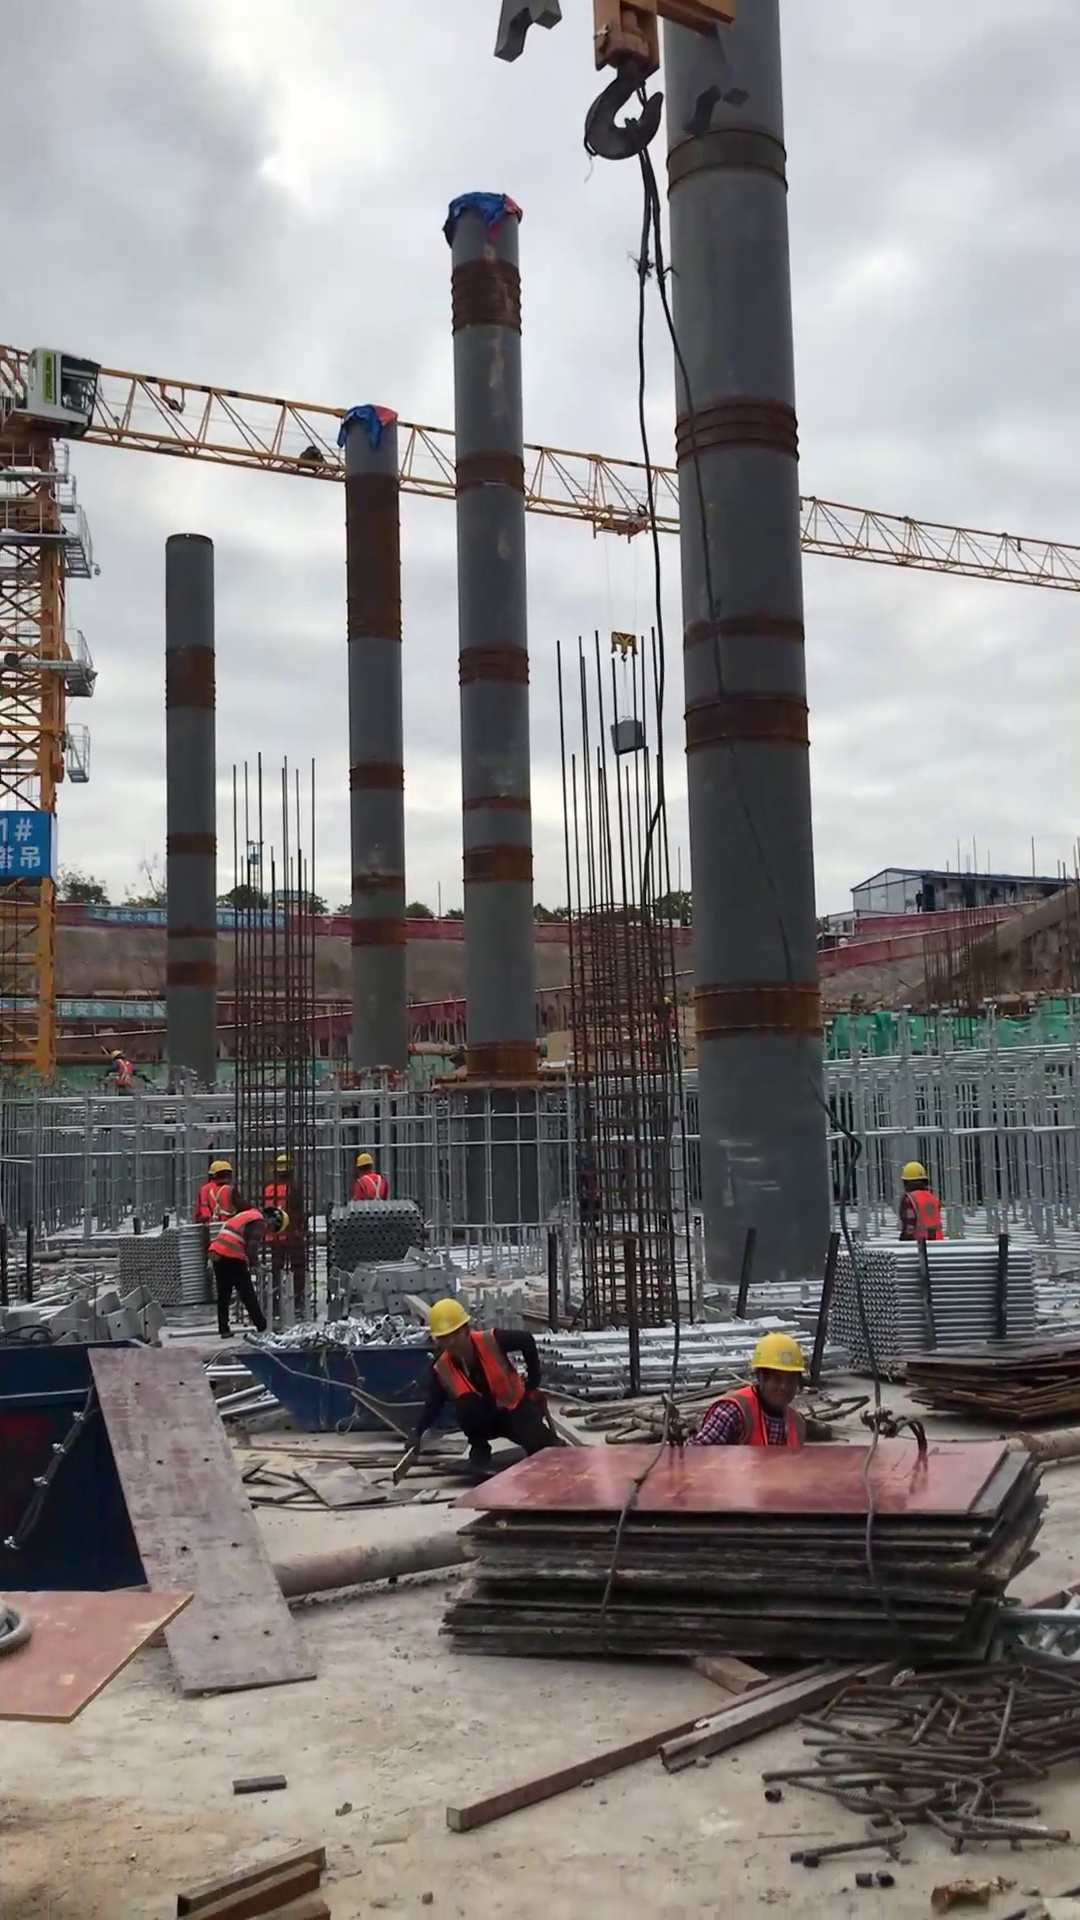helmet: (735, 1332, 817, 1382), (422, 1297, 478, 1344), (893, 1158, 935, 1190), (201, 1156, 237, 1181), (271, 1206, 294, 1242), (350, 1147, 378, 1172), (101, 1044, 125, 1064)
person: (394, 1292, 569, 1467), (683, 1333, 829, 1467), (207, 1201, 293, 1344), (886, 1149, 951, 1254), (340, 1147, 399, 1224), (193, 1150, 242, 1240), (100, 1042, 143, 1099)
vest: (417, 1324, 533, 1417), (690, 1379, 814, 1456), (896, 1176, 949, 1249), (211, 1203, 267, 1268), (344, 1174, 393, 1207), (201, 1182, 233, 1226), (111, 1057, 137, 1089)
